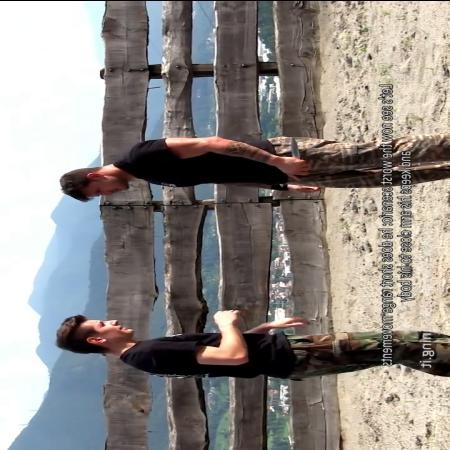long weapon: (276, 132, 313, 174)
